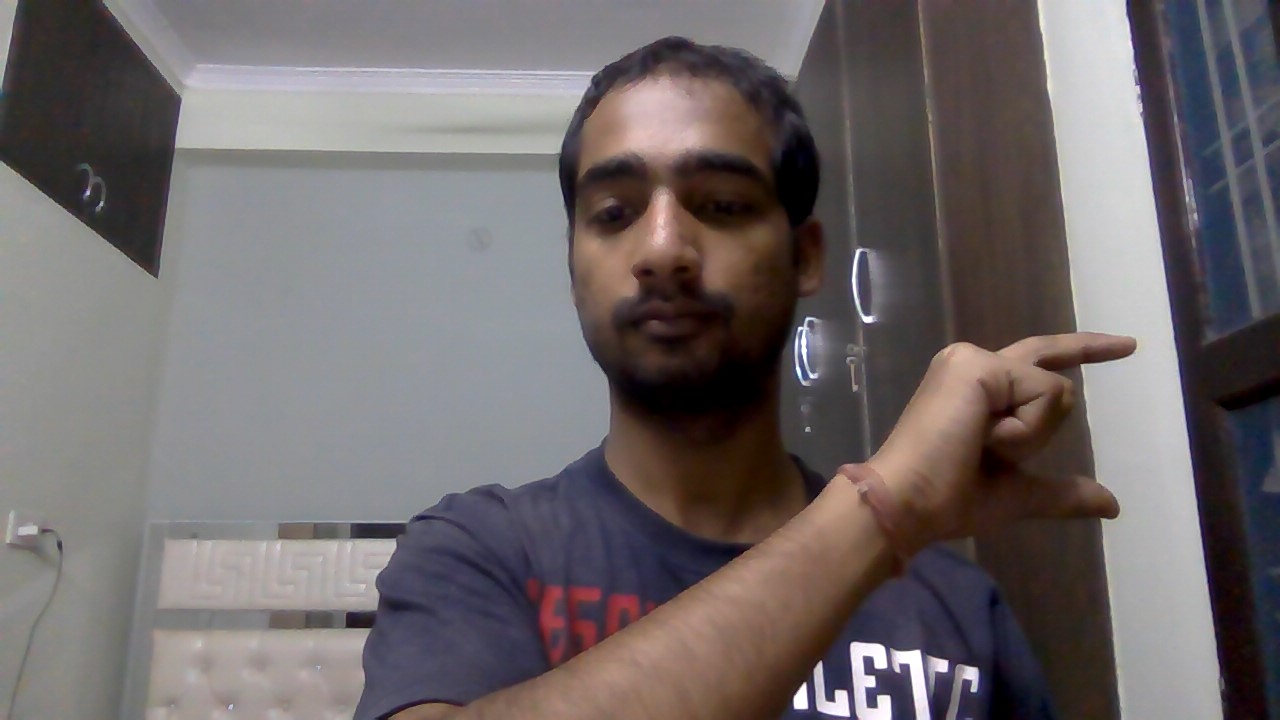Paste: (870, 315, 1149, 558)
